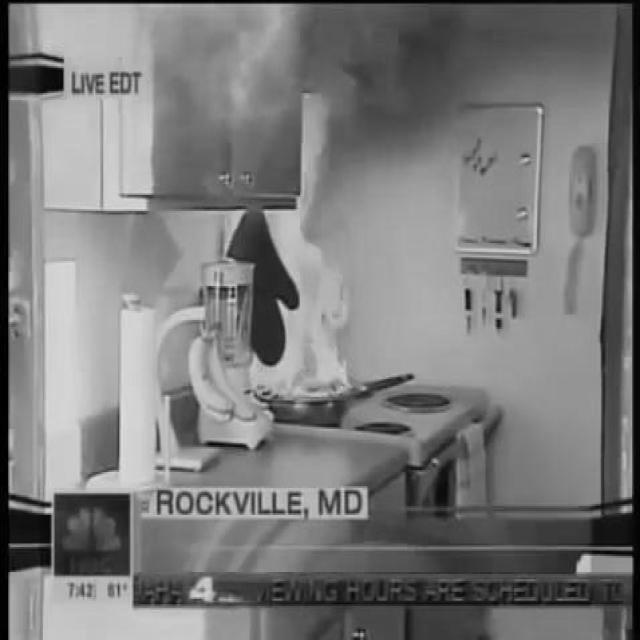fire: (148, 0, 358, 125)
smoke: (223, 91, 357, 399)
